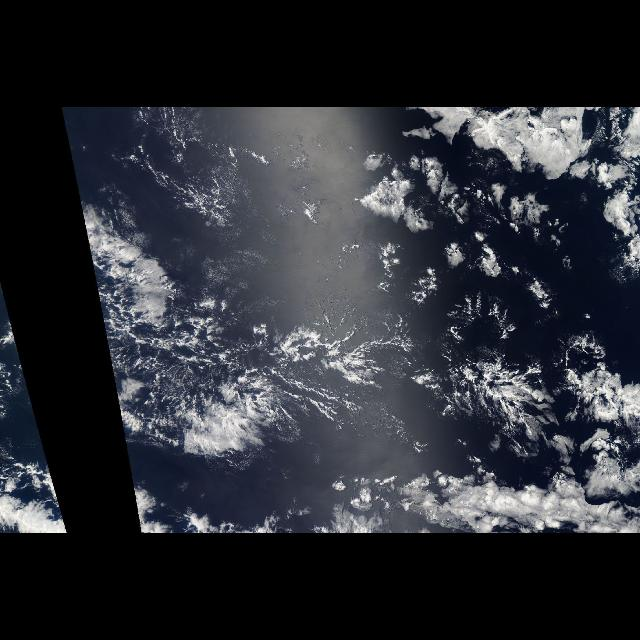Flower: (334, 108, 640, 324)
